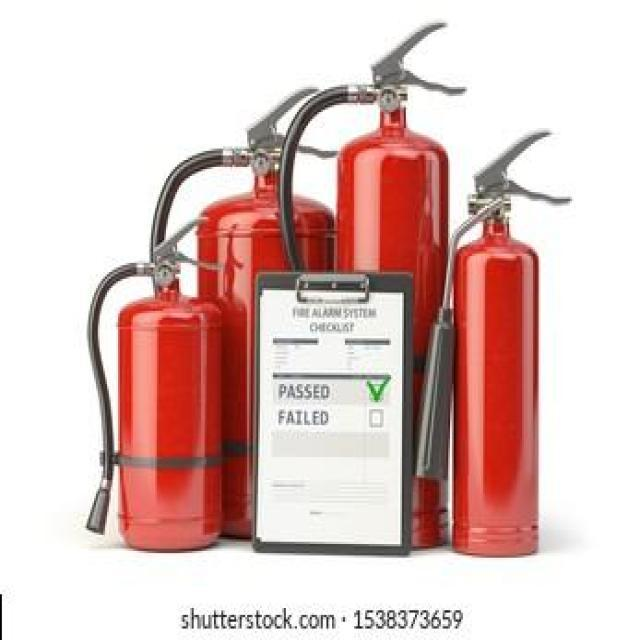fire_extinguisher: (272, 15, 464, 552), (139, 75, 355, 542), (412, 122, 578, 561), (76, 204, 232, 556)
